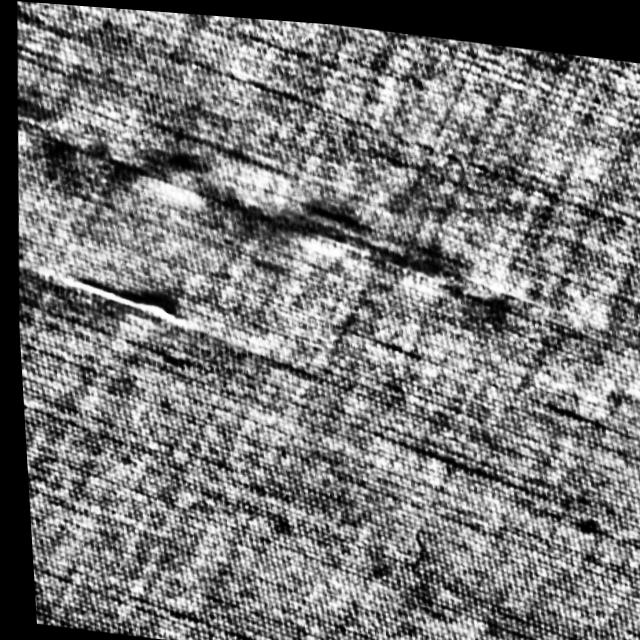Stitch: (6, 85, 614, 346), (50, 267, 197, 328)
